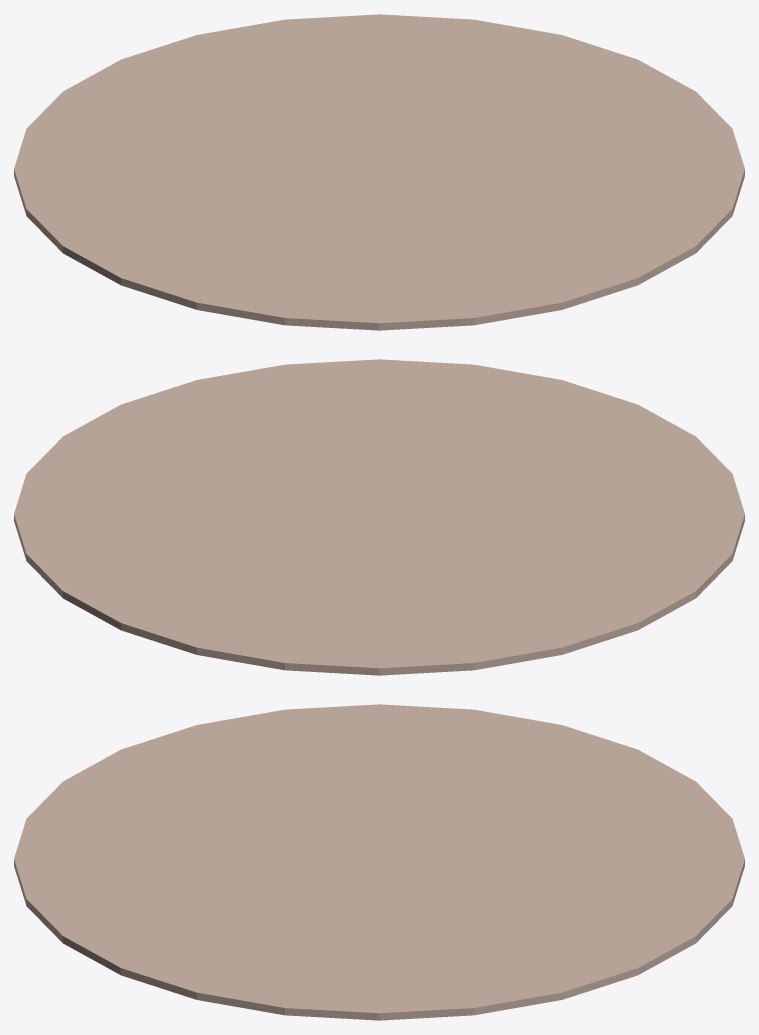
File: liv_textil_tapete_redondo.glb
3 views of the same model, one above another, from view 1: azimuth 30°, elevation 25°; view 2: azimuth 150°, elevation 25°; view 3: azimuth 270°, elevation 25° (orthographic).
Visible parts, largest first — view 1: LIV_Textil_TapeteRedondo_v01; view 2: LIV_Textil_TapeteRedondo_v01; view 3: LIV_Textil_TapeteRedondo_v01.
Part boxes in pixels (x1,y1,x2,y2): LIV_Textil_TapeteRedondo_v01: (14,14,744,330); LIV_Textil_TapeteRedondo_v01: (14,359,744,675); LIV_Textil_TapeteRedondo_v01: (14,704,744,1020).
Bounding box in the file's own units: 1.8 × 0.02 × 1.8.
